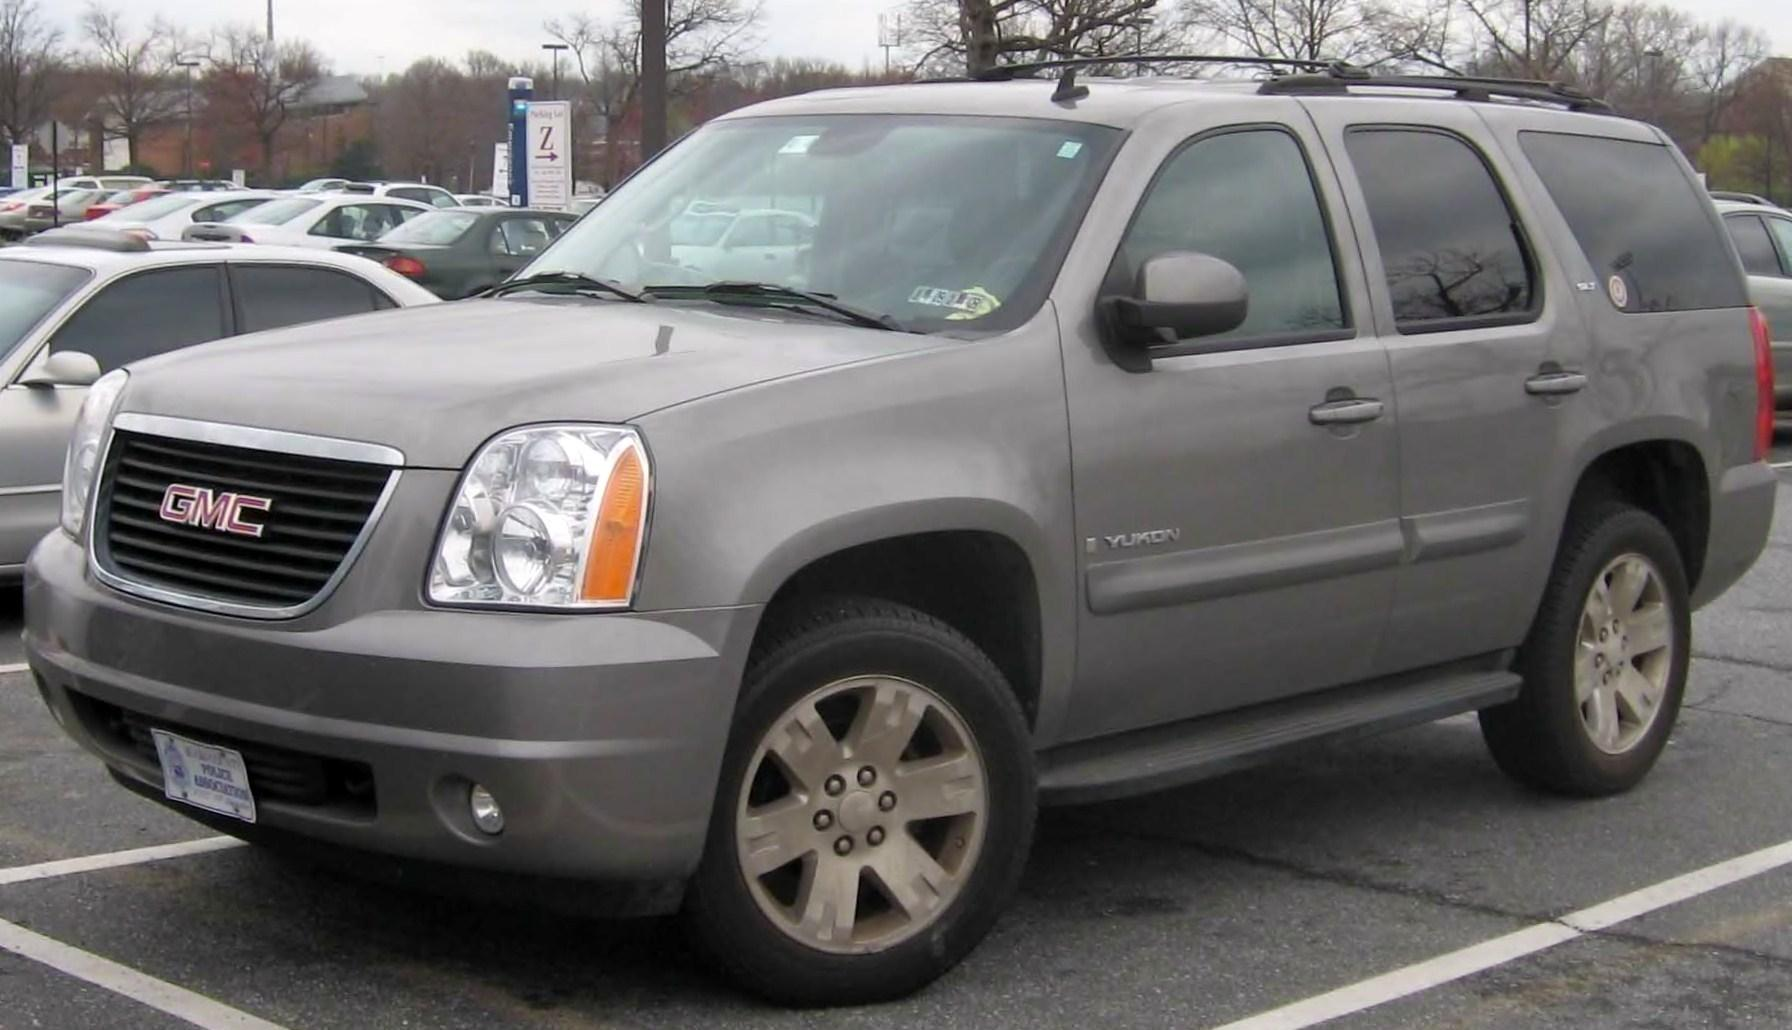GMC: (134, 466, 300, 556)
